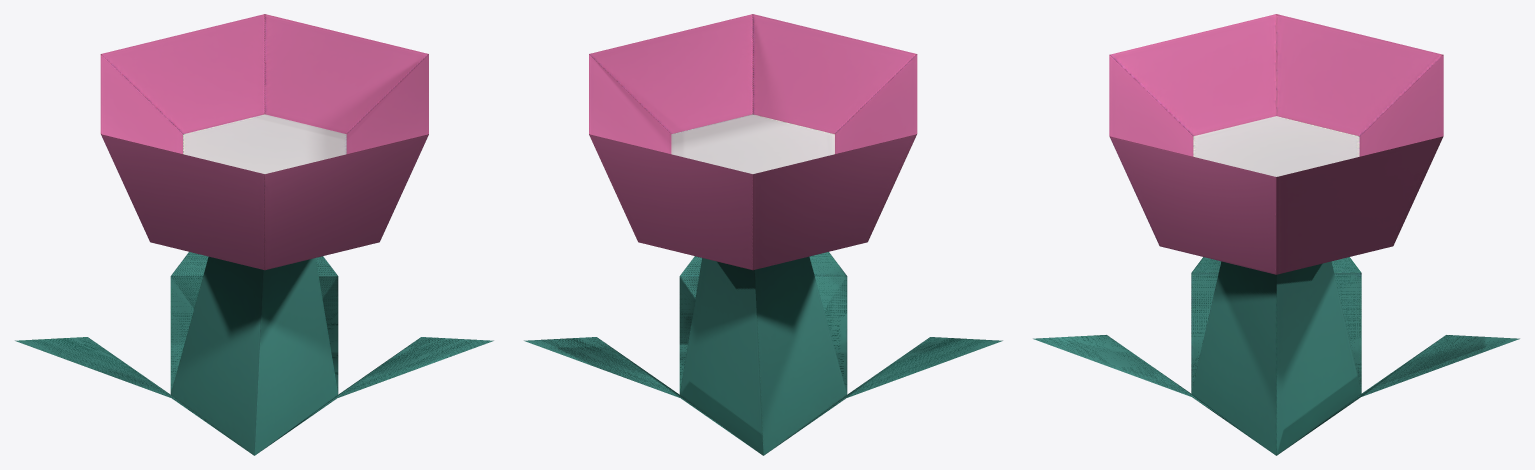
The model's file is flower.gltf.
3 views of the same model, side by side, from view 1: azimuth 30°, elevation 25°; view 2: azimuth 150°, elevation 25°; view 3: azimuth 270°, elevation 25° (orthographic).
Visible parts, largest first — view 1: flower_yellowC_Baked; view 2: flower_yellowC_Baked; view 3: flower_yellowC_Baked.
Boxes of the visible parts, x1,y1,x2,y2 form: flower_yellowC_Baked: (15, 14, 493, 455); flower_yellowC_Baked: (524, 14, 1002, 455); flower_yellowC_Baked: (1033, 14, 1519, 455).
Size of the model in its own units: 3.93 by 2.88 by 3.94.
Materials: 1 (1 with a texture image).
